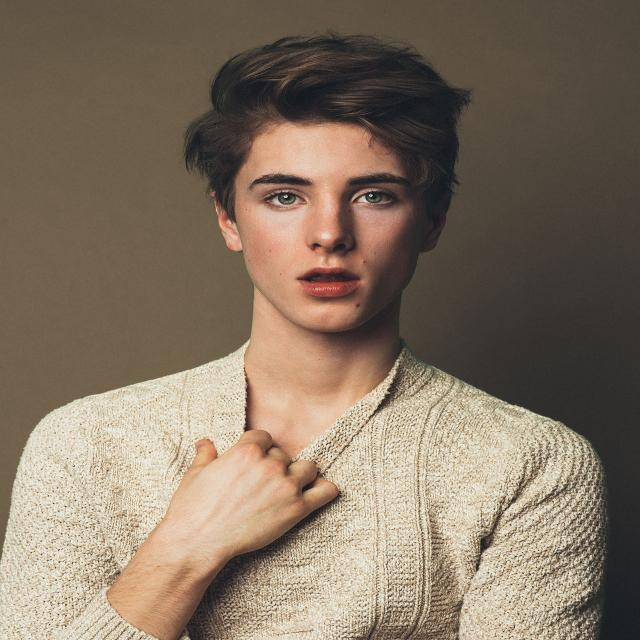front: (255, 140, 430, 316)
